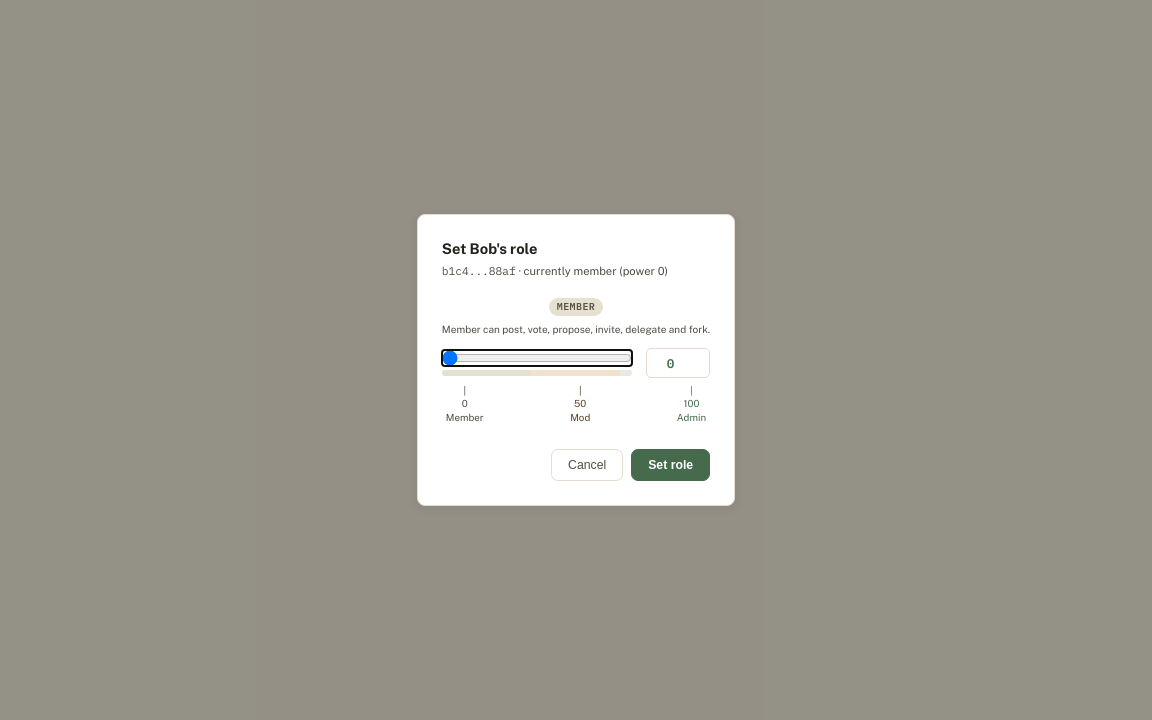
Scenario: SetPowerDialog › typing in number input updates the slider
Replace the text in the number field named "Power level" with "75" at [678, 363], box [646,348,710,378]
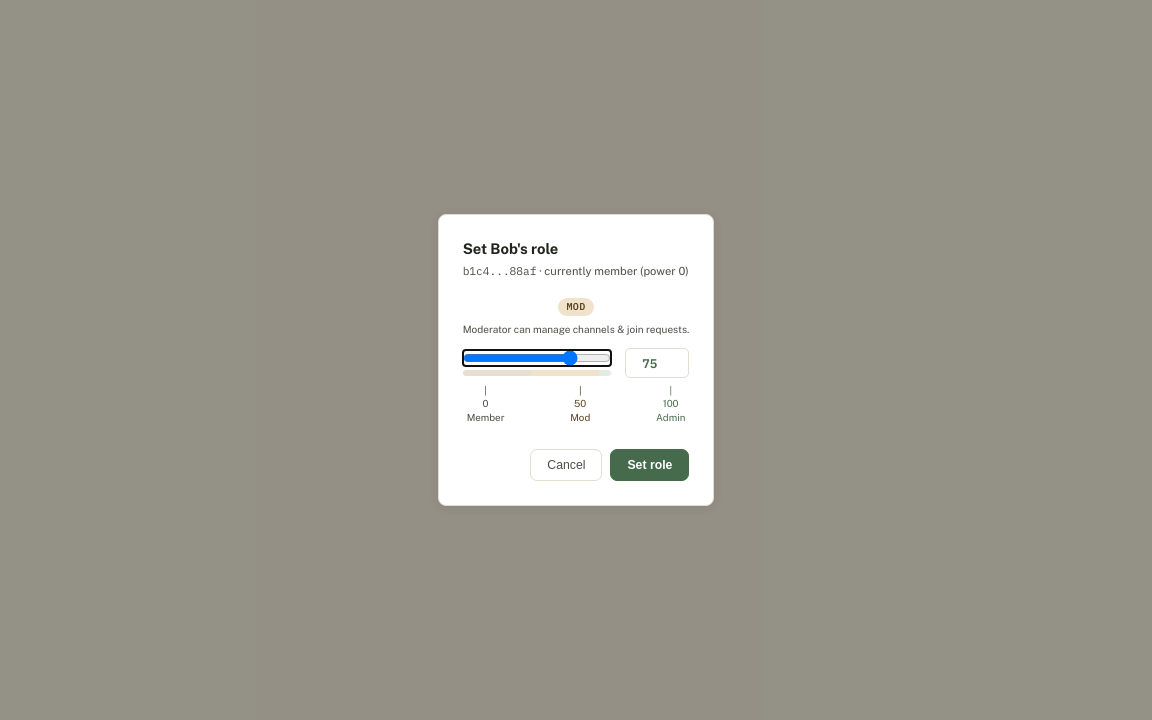
Result: the slider named "Power level slider" holds "75" at [463,350,611,366]
